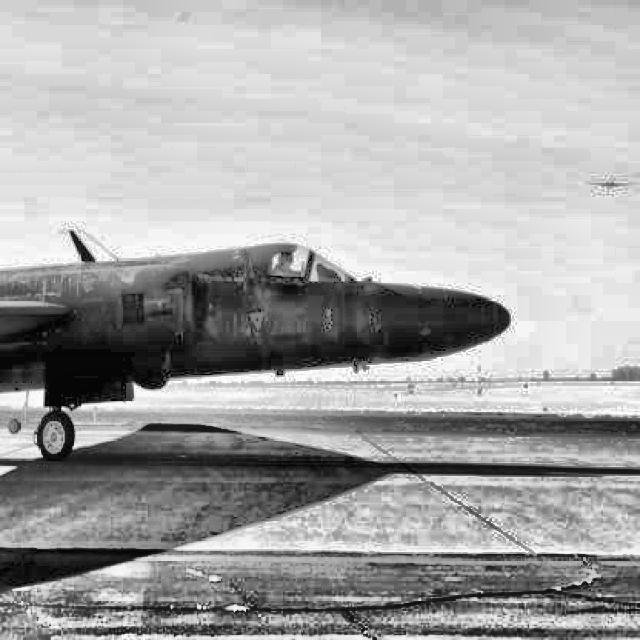U2: (1, 229, 512, 460), (588, 176, 635, 190)
